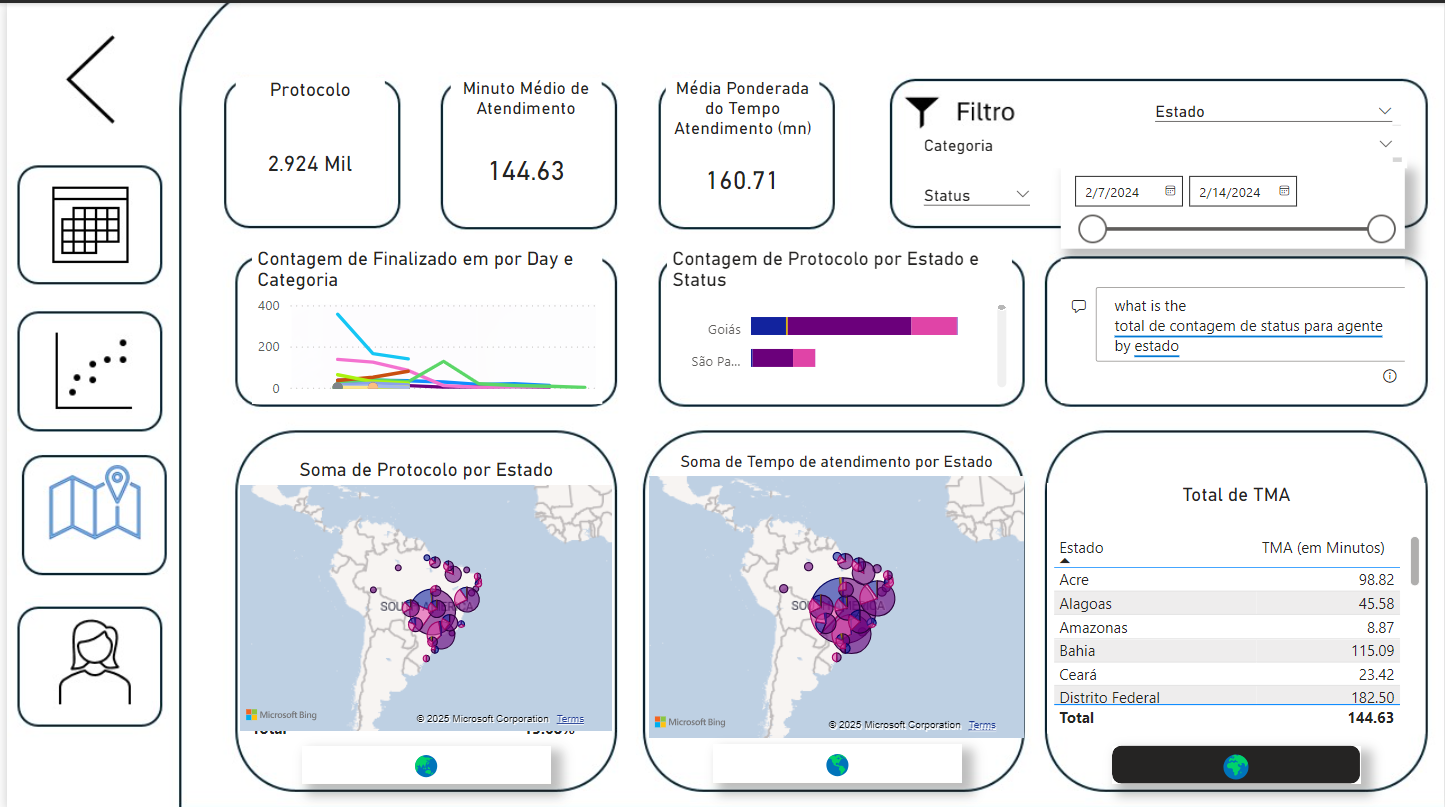

The dashboard page shown, as its layout file describes it:
{"tool":"powerbi","page":{"name":"Regional","canvas":[1280,720],"ordinal":3},"visuals":[{"type":"tableEx","title":"Total de TMA","fields":{"Values":["Sheet1.Estado","Sheet1.TMA (em Minutos)"]},"box":[925.7,427.1,337.1,222.9],"z":0},{"type":"map","title":"Soma de Tempo de atendimento por Estado","fields":{"Category":["Sheet1.Estado"],"Series":["Sheet1.Status"],"Size":["CountNonNull(Sheet1.Finalizado em)"]},"box":[922.3,382.9,341,276.7],"z":1000},{"type":"tableEx","title":"Diferença Percentual de Protocolos vazios","fields":{"Values":["Sheet1.Estado","Sheet1.Contagem de Protocolo % de diferença de Contagem de Protocolo"]},"box":[207.1,427.1,330,232.9],"z":2000},{"type":"map","title":"Soma de Protocolo por Estado","fields":{"Category":["Sheet1.Estado"],"Size":["Count(Sheet1.Protocolo)"],"Series":["Sheet1.Status"]},"box":[202.9,405.7,341.4,248.6],"z":3000},{"type":"map","title":"Soma de Tempo de atendimento por Estado","fields":{"Category":["Sheet1.Estado"],"Series":["Sheet1.Status"],"Size":["CountNonNull(Sheet1.Status)"]},"box":[567.1,400,344.3,260],"z":5000},{"type":"bookmarkNavigator","box":[984.3,661.4,221.4,34.3],"z":6000},{"type":"bookmarkNavigator","box":[628.6,660,221.4,34.3],"z":7000},{"type":"bookmarkNavigator","box":[262.9,661.4,221.4,34.3],"z":8000},{"type":"cardVisual","title":"Minuto Médio de Atendimento ","fields":{"Data":["Sheet1.TMA"]},"box":[395.5,67.1,134.1,121.6],"z":9000},{"type":"cardVisual","title":"Média Ponderada do Tempo Atendimento (mn)","fields":{"Data":["Sheet1.Tempo Médio de Atendimento por Agente (Minutos) ponderado por Contagem de Estado por Categoria"]},"box":[586.9,67.1,136.9,121.6],"z":10000},{"type":"slicer","fields":{"Values":["Sheet1.Criado em"]},"box":[938.3,143.3,306.7,75],"z":11000},{"type":"slicer","fields":{"Values":["Sheet1.Status"]},"box":[804,158,120,26],"z":12000},{"type":"cardVisual","title":"Protocolo","fields":{"Data":["Count(Sheet1.Protocolo)"]},"box":[204,67.1,132.8,125.8],"z":13000},{"type":"slicer","fields":{"Values":["Sheet1.Estado"]},"box":[1010,83.3,236.7,30],"z":14000},{"type":"slicer","fields":{"Values":["Sheet1.Categoria"]},"box":[803.3,113.3,443.3,33.3],"z":15000},{"type":"barChart","fields":{"Y":["Count(Sheet1.Protocolo)"],"Category":["Sheet1.Estado"],"Series":["Sheet1.Status"]},"box":[587.3,216.8,307.4,130.4],"z":16000},{"type":"qnaVisual","box":[938.6,227.8,306,127.6],"z":17000},{"type":"lineChart","fields":{"Category":["Sheet1.Criado em.Variation.Date Hierarchy.Month","Sheet1.Criado em.Variation.Date Hierarchy.Day"],"Y":["CountNonNull(Sheet1.Finalizado em)"],"Series":["Sheet1.Categoria"]},"box":[218,216.6,311.6,139.7],"z":18000},{"type":"shape","box":[0,8.3,135,118.3],"z":19000},{"type":"shape","box":[16.5,146.8,118,96.1],"z":20000},{"type":"shape","box":[16.5,281.3,118,91.9],"z":21000},{"type":"shape","box":[17.2,407.4,119,100.6],"z":22000},{"type":"shape","box":[16,538.7,117.8,99.4],"z":23000}]}

Visuals, with their boxes on the page's 1280x720 design canvas (x1, y1, x2, y2). These are canvas units, not pixel positions in the 1445x807 screenshot, which may show the page scaled, cropped or inside an application window:
"Total de TMA" tableEx: [926, 427, 1263, 650]
"Soma de Tempo de atendimento por Estado" map: [922, 383, 1263, 660]
"Diferença Percentual de Protocolos vazios" tableEx: [207, 427, 537, 660]
"Soma de Protocolo por Estado" map: [203, 406, 544, 654]
"Soma de Tempo de atendimento por Estado" map: [567, 400, 911, 660]
bookmarkNavigator: [984, 661, 1206, 696]
bookmarkNavigator: [629, 660, 850, 694]
bookmarkNavigator: [263, 661, 484, 696]
"Minuto Médio de Atendimento " cardVisual: [396, 67, 530, 189]
"Média Ponderada do Tempo Atendimento (mn)" cardVisual: [587, 67, 724, 189]
slicer - Sheet1.Criado em: [938, 143, 1245, 218]
slicer - Sheet1.Status: [804, 158, 924, 184]
"Protocolo" cardVisual: [204, 67, 337, 193]
slicer - Sheet1.Estado: [1010, 83, 1247, 113]
slicer - Sheet1.Categoria: [803, 113, 1247, 147]
barChart - Count(Sheet1.Protocolo) x Sheet1.Estado: [587, 217, 895, 347]
qnaVisual: [939, 228, 1245, 355]
lineChart - Sheet1.Criado em.Variation.Date Hierarchy.Month x Sheet1.Criado em.Variation.Date Hierarchy.Day: [218, 217, 530, 356]
shape: [0, 8, 135, 127]
shape: [16, 147, 134, 243]
shape: [16, 281, 134, 373]
shape: [17, 407, 136, 508]
shape: [16, 539, 134, 638]
